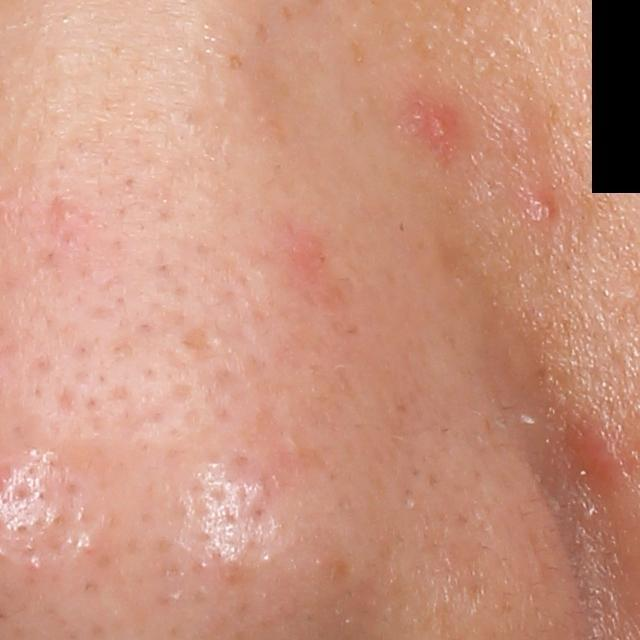atrophic_scar: (179, 323, 219, 362), (54, 385, 79, 419)
melasma: (226, 53, 244, 73), (276, 2, 292, 23)
papule: (524, 186, 558, 225), (56, 204, 76, 225)
